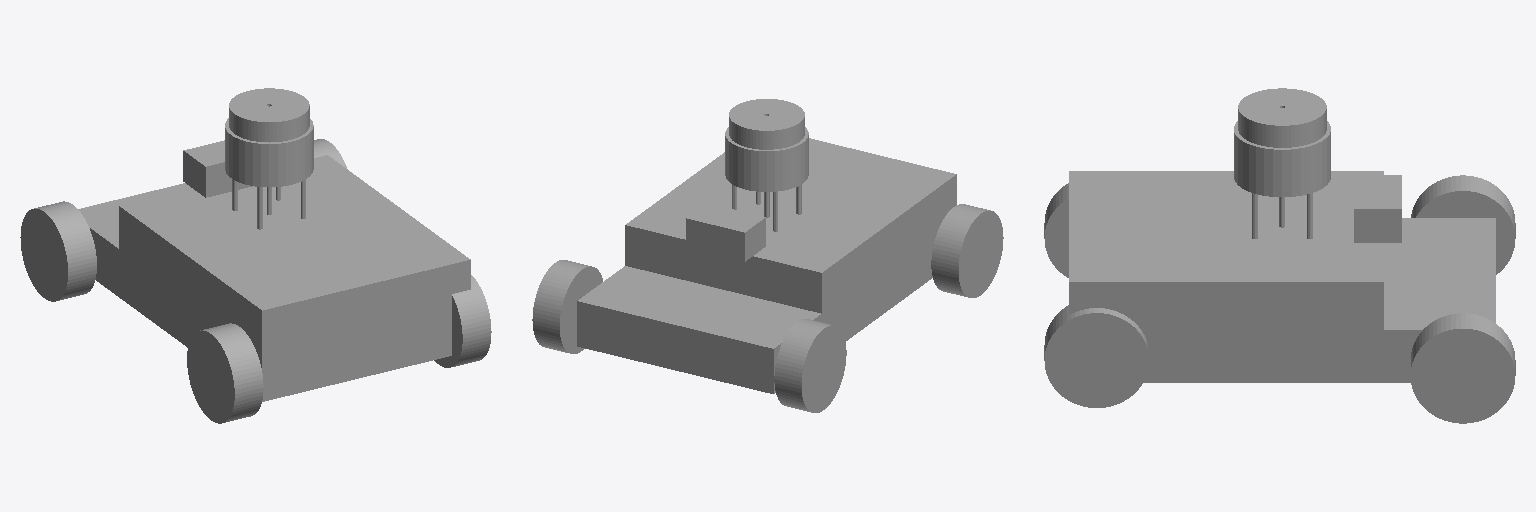
robot.urdf — car_1026_5:
<?xml version="1.0" ?>
<!-- =================================================================================== -->
<!-- |    This document was autogenerated by xacro from urdf/car_1026_5.xacro          | -->
<!-- |    EDITING THIS FILE BY HAND IS NOT RECOMMENDED                                 | -->
<!-- =================================================================================== -->
<robot xmlns:xacro="http://www.ros.org/wiki/xacro" name="car_1026_5">
  <material name="silver">
    <color rgba="0.700 0.700 0.700 1.000"/>
  </material>
  <transmission name="Revolute 1_tran">
    <type>transmission_interface/SimpleTransmission</type>
    <joint name="Revolute 1">
      <hardwareInterface>hardware_interface/EffortJointInterface</hardwareInterface>
    </joint>
    <actuator name="Revolute 1_actr">
      <hardwareInterface>hardware_interface/EffortJointInterface</hardwareInterface>
      <mechanicalReduction>1</mechanicalReduction>
    </actuator>
  </transmission>
  <transmission name="Revolute 2_tran">
    <type>transmission_interface/SimpleTransmission</type>
    <joint name="Revolute 2">
      <hardwareInterface>hardware_interface/EffortJointInterface</hardwareInterface>
    </joint>
    <actuator name="Revolute 2_actr">
      <hardwareInterface>hardware_interface/EffortJointInterface</hardwareInterface>
      <mechanicalReduction>1</mechanicalReduction>
    </actuator>
  </transmission>
  <transmission name="Revolute 3_tran">
    <type>transmission_interface/SimpleTransmission</type>
    <joint name="Revolute 3">
      <hardwareInterface>hardware_interface/EffortJointInterface</hardwareInterface>
    </joint>
    <actuator name="Revolute 3_actr">
      <hardwareInterface>hardware_interface/EffortJointInterface</hardwareInterface>
      <mechanicalReduction>1</mechanicalReduction>
    </actuator>
  </transmission>
  <transmission name="Revolute 4_tran">
    <type>transmission_interface/SimpleTransmission</type>
    <joint name="Revolute 4">
      <hardwareInterface>hardware_interface/EffortJointInterface</hardwareInterface>
    </joint>
    <actuator name="Revolute 4_actr">
      <hardwareInterface>hardware_interface/EffortJointInterface</hardwareInterface>
      <mechanicalReduction>1</mechanicalReduction>
    </actuator>
  </transmission>
  <gazebo>
    <plugin name="control" filename="libgazebo_ros_control.so"/>
  </gazebo>
  <gazebo reference="base_link">
    <material>Gazebo/Silver</material>
    <mu1>0.2</mu1>
    <mu2>0.2</mu2>
    <selfCollide>true</selfCollide>
    <gravity>true</gravity>
  </gazebo>
  <gazebo reference="back_left_1">
    <material>Gazebo/Silver</material>
    <mu1>0.2</mu1>
    <mu2>0.2</mu2>
    <selfCollide>true</selfCollide>
  </gazebo>
  <gazebo reference="front_left_1">
    <material>Gazebo/Silver</material>
    <mu1>0.2</mu1>
    <mu2>0.2</mu2>
    <selfCollide>true</selfCollide>
  </gazebo>
  <gazebo reference="front_right_1">
    <material>Gazebo/Silver</material>
    <mu1>0.2</mu1>
    <mu2>0.2</mu2>
    <selfCollide>true</selfCollide>
  </gazebo>
  <gazebo reference="back_right_1">
    <material>Gazebo/Silver</material>
    <mu1>0.2</mu1>
    <mu2>0.2</mu2>
    <selfCollide>true</selfCollide>
  </gazebo>
  <gazebo reference="liddddd_1">
    <material>Gazebo/Silver</material>
    <mu1>0.2</mu1>
    <mu2>0.2</mu2>
    <selfCollide>true</selfCollide>
  </gazebo>
  <link name="base_link">
    <inertial>
      <origin xyz="0.0 -0.016407585394101115 0.04683050752899944" rpy="0 0 0"/>
      <mass value="49.97215412857465"/>
      <inertia ixx="0.486898" iyy="0.245152" izz="0.619034" ixy="-0.0" iyz="0.016744" ixz="0.0"/>
    </inertial>
    <visual>
      <origin xyz="0 0 0" rpy="0 0 0"/>
      <geometry>
        <mesh filename="package://car_1026_5_description/meshes/base_link.stl" scale="0.001 0.001 0.001"/>
      </geometry>
      <material name="silver"/>
    </visual>
    <collision>
      <origin xyz="0 0 0" rpy="0 0 0"/>
      <geometry>
        <mesh filename="package://car_1026_5_description/meshes/base_link.stl" scale="0.001 0.001 0.001"/>
      </geometry>
    </collision>
  </link>
  <link name="back_left_1">
    <inertial>
      <origin xyz="-0.014999999999999958 0.0 -6.938893903907228e-18" rpy="0 0 0"/>
      <mass value="1.3679735342828128"/>
      <inertia ixx="0.001265" iyy="0.000735" izz="0.000735" ixy="-0.0" iyz="0.0" ixz="0.0"/>
    </inertial>
    <visual>
      <origin xyz="0.1185 0.152 -0.025" rpy="0 0 0"/>
      <geometry>
        <mesh filename="package://car_1026_5_description/meshes/back_left_1.stl" scale="0.001 0.001 0.001"/>
      </geometry>
      <material name="silver"/>
    </visual>
    <collision>
      <origin xyz="0.1185 0.152 -0.025" rpy="0 0 0"/>
      <geometry>
        <mesh filename="package://car_1026_5_description/meshes/back_left_1.stl" scale="0.001 0.001 0.001"/>
      </geometry>
    </collision>
  </link>
  <link name="front_left_1">
    <inertial>
      <origin xyz="-0.015000000000000013 -2.7755575615628914e-17 -6.938893903907228e-18" rpy="0 0 0"/>
      <mass value="1.3679735342828132"/>
      <inertia ixx="0.001265" iyy="0.000735" izz="0.000735" ixy="-0.0" iyz="-0.0" ixz="0.0"/>
    </inertial>
    <visual>
      <origin xyz="-0.1185 0.152 -0.025" rpy="0 0 0"/>
      <geometry>
        <mesh filename="package://car_1026_5_description/meshes/front_left_1.stl" scale="0.001 0.001 0.001"/>
      </geometry>
      <material name="silver"/>
    </visual>
    <collision>
      <origin xyz="-0.1185 0.152 -0.025" rpy="0 0 0"/>
      <geometry>
        <mesh filename="package://car_1026_5_description/meshes/front_left_1.stl" scale="0.001 0.001 0.001"/>
      </geometry>
    </collision>
  </link>
  <link name="front_right_1">
    <inertial>
      <origin xyz="0.014999999999999986 0.0 -1.0408340855860843e-17" rpy="0 0 0"/>
      <mass value="1.3679735342828132"/>
      <inertia ixx="0.001265" iyy="0.000735" izz="0.000735" ixy="0.0" iyz="0.0" ixz="0.0"/>
    </inertial>
    <visual>
      <origin xyz="-0.1185 -0.148 -0.025" rpy="0 0 0"/>
      <geometry>
        <mesh filename="package://car_1026_5_description/meshes/front_right_1.stl" scale="0.001 0.001 0.001"/>
      </geometry>
      <material name="silver"/>
    </visual>
    <collision>
      <origin xyz="-0.1185 -0.148 -0.025" rpy="0 0 0"/>
      <geometry>
        <mesh filename="package://car_1026_5_description/meshes/front_right_1.stl" scale="0.001 0.001 0.001"/>
      </geometry>
    </collision>
  </link>
  <link name="back_right_1">
    <inertial>
      <origin xyz="-0.015000000000000013 -5.551115123125783e-17 -6.938893903907228e-18" rpy="0 0 0"/>
      <mass value="1.3679735342828128"/>
      <inertia ixx="0.001265" iyy="0.000735" izz="0.000735" ixy="-0.0" iyz="-0.0" ixz="-0.0"/>
    </inertial>
    <visual>
      <origin xyz="0.1185 -0.148 -0.025" rpy="0 0 0"/>
      <geometry>
        <mesh filename="package://car_1026_5_description/meshes/back_right_1.stl" scale="0.001 0.001 0.001"/>
      </geometry>
      <material name="silver"/>
    </visual>
    <collision>
      <origin xyz="0.1185 -0.148 -0.025" rpy="0 0 0"/>
      <geometry>
        <mesh filename="package://car_1026_5_description/meshes/back_right_1.stl" scale="0.001 0.001 0.001"/>
      </geometry>
    </collision>
  </link>
  <link name="liddddd_1">
    <inertial>
      <origin xyz="1.2412155873734946e-15 7.31857435118901e-18 0.010000000000000092" rpy="0 0 0"/>
      <mass value="0.6464869255592349"/>
      <inertia ixx="0.000235" iyy="0.000235" izz="0.000428" ixy="0.0" iyz="-0.0" ixz="0.0"/>
    </inertial>
    <visual>
      <origin xyz="-0.0 -0.0 -0.179" rpy="0 0 0"/>
      <geometry>
        <mesh filename="package://car_1026_5_description/meshes/liddddd_1.stl" scale="0.001 0.001 0.001"/>
      </geometry>
      <material name="silver"/>
    </visual>
    <collision>
      <origin xyz="-0.0 -0.0 -0.179" rpy="0 0 0"/>
      <geometry>
        <mesh filename="package://car_1026_5_description/meshes/liddddd_1.stl" scale="0.001 0.001 0.001"/>
      </geometry>
    </collision>
  </link>
  <joint name="Revolute 1" type="continuous">
    <origin xyz="-0.1185 -0.152 0.025" rpy="0 0 0"/>
    <parent link="base_link"/>
    <child link="back_left_1"/>
    <axis xyz="-1.0 0.0 0.0"/>
  </joint>
  <joint name="Revolute 2" type="continuous">
    <origin xyz="0.1185 -0.152 0.025" rpy="0 0 0"/>
    <parent link="base_link"/>
    <child link="front_left_1"/>
    <axis xyz="1.0 0.0 0.0"/>
  </joint>
  <joint name="Revolute 3" type="continuous">
    <origin xyz="0.1185 0.148 0.025" rpy="0 0 0"/>
    <parent link="base_link"/>
    <child link="front_right_1"/>
    <axis xyz="1.0 0.0 0.0"/>
  </joint>
  <joint name="Revolute 4" type="continuous">
    <origin xyz="-0.1185 0.148 0.025" rpy="0 0 0"/>
    <parent link="base_link"/>
    <child link="back_right_1"/>
    <axis xyz="-1.0 0.0 0.0"/>
  </joint>
  <joint name="Rigid 5" type="fixed">
    <origin xyz="0.0 0.0 0.179" rpy="0 0 0"/>
    <parent link="base_link"/>
    <child link="liddddd_1"/>
  </joint>
</robot>

--- Facts derived from the render (not from the file) ---
The picture shows the robot from 3 angles, left to right: view 1: azimuth 30°, elevation 25°; view 2: azimuth 150°, elevation 25°; view 3: azimuth 270°, elevation 25°; orthographic projection.
Model car_1026_5 with 6 links and 5 joints (4 continuous, 1 fixed), rooted at base_link, posed every joint at zero.
Visible links, largest first — view 1: base_link, back_left_1, back_right_1, liddddd_1, front_left_1; view 2: base_link, back_right_1, back_left_1, front_right_1, liddddd_1; view 3: base_link, front_right_1, front_left_1, liddddd_1, back_right_1, back_left_1.
Link boxes in pixels (x1=…): base_link: x1=78, y1=118, x2=470, y2=401; back_left_1: x1=187, y1=323, x2=263, y2=423; back_right_1: x1=20, y1=201, x2=96, y2=301; liddddd_1: x1=229, y1=88, x2=309, y2=142; front_left_1: x1=434, y1=275, x2=491, y2=367; base_link: x1=577, y1=127, x2=956, y2=393; back_right_1: x1=774, y1=319, x2=846, y2=412; back_left_1: x1=931, y1=204, x2=1003, y2=297; front_right_1: x1=532, y1=260, x2=602, y2=353; liddddd_1: x1=729, y1=99, x2=804, y2=149; base_link: x1=1069, y1=121, x2=1495, y2=382; front_right_1: x1=1411, y1=313, x2=1515, y2=423; front_left_1: x1=1044, y1=305, x2=1148, y2=407; liddddd_1: x1=1238, y1=88, x2=1326, y2=147; back_right_1: x1=1411, y1=175, x2=1515, y2=274; back_left_1: x1=1044, y1=183, x2=1068, y2=277.
Bounding box of the posed robot: 0.297 × 0.386 × 0.217 m (x, y, z).
6 mesh visuals loaded from 6 distinct referenced files (6 binary STL).
